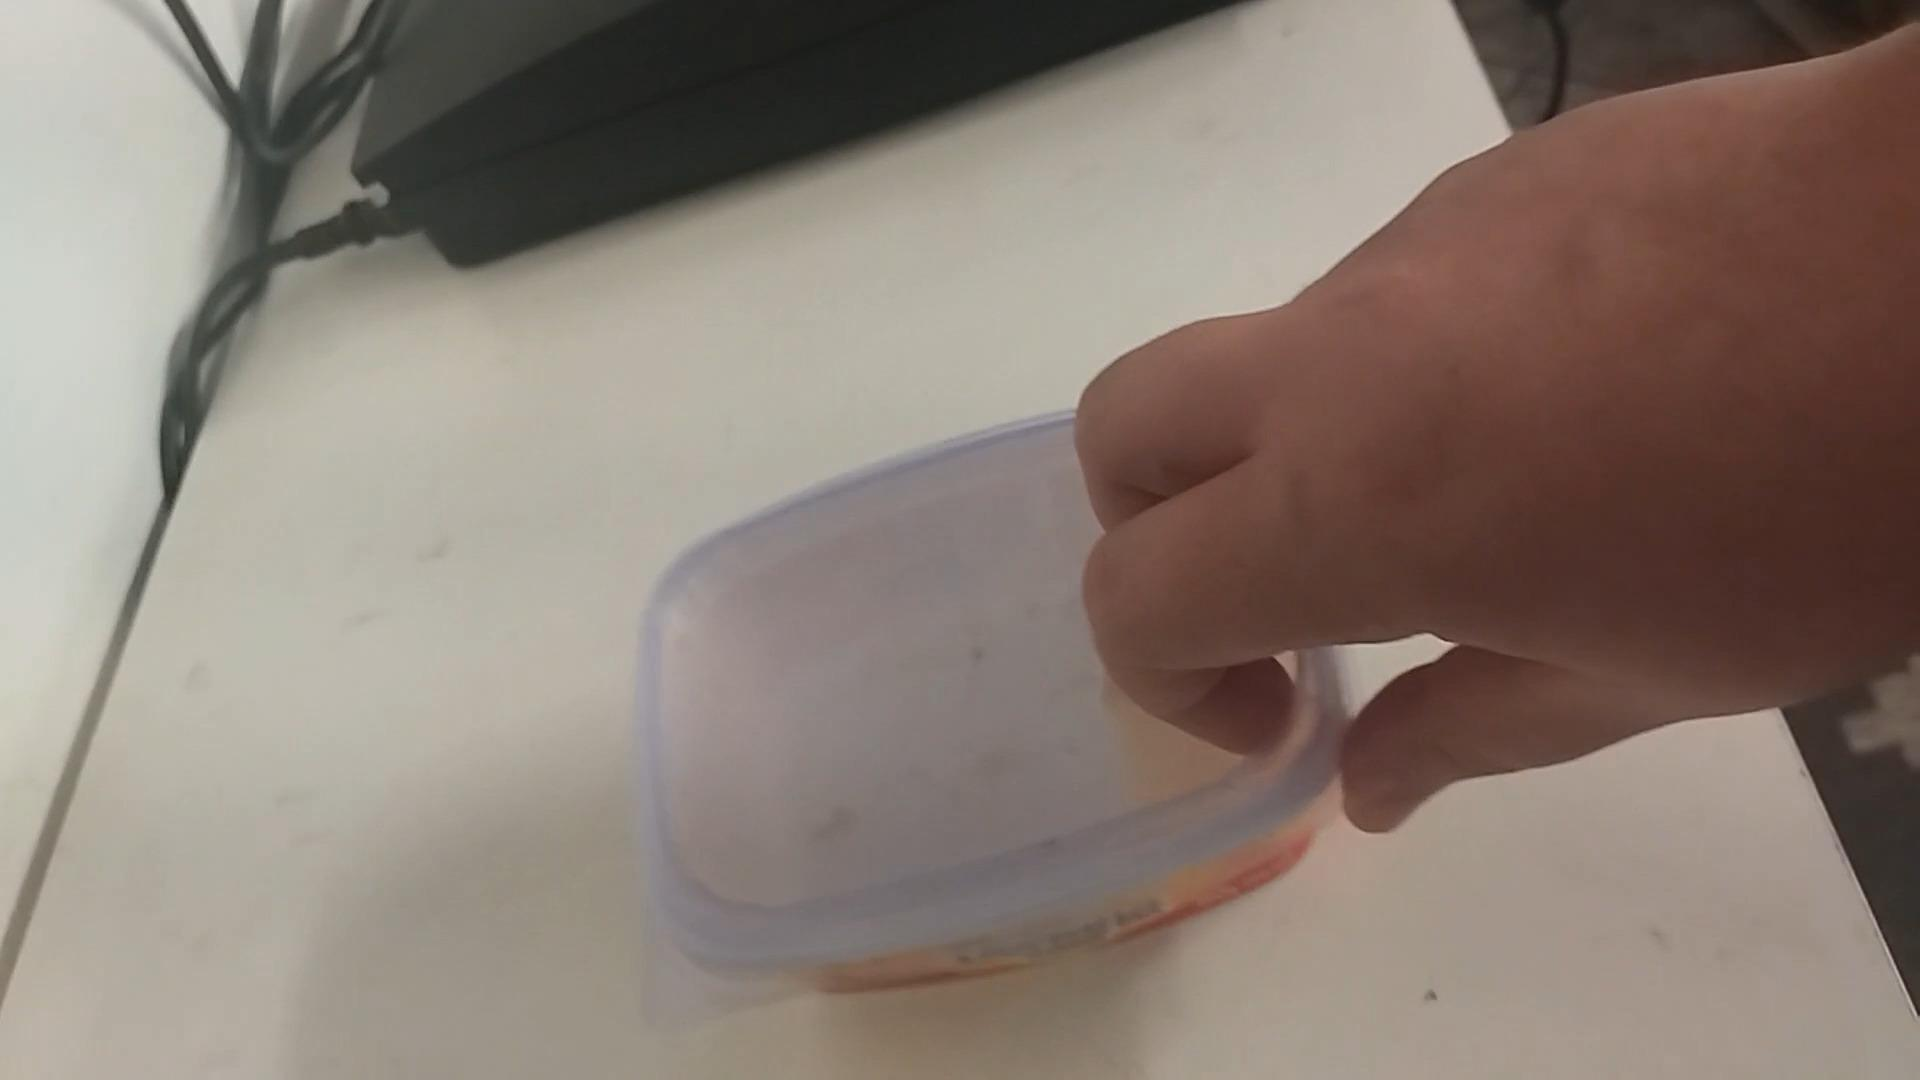butter: (620, 405, 1349, 998)
